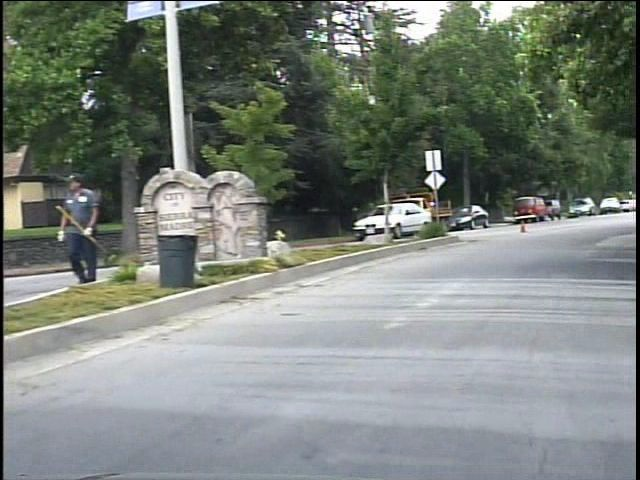person: (57, 167, 113, 290)
